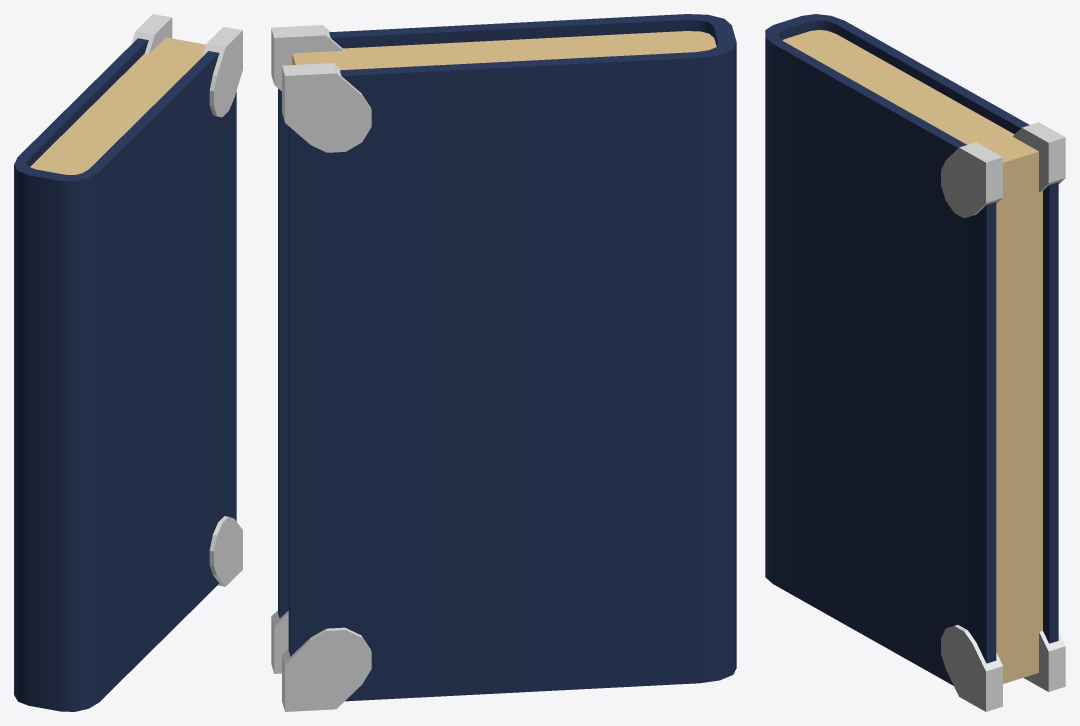
The model's file is obj_Book_09.fbx.
3 views of the same model, side by side, from view 1: azimuth 30°, elevation 25°; view 2: azimuth 150°, elevation 25°; view 3: azimuth 270°, elevation 25° (orthographic). The views are drawn at different scales.
Visible parts, largest first — view 1: Book_09, Book_EdgePattern.017; view 2: Book_09, Book_EdgePattern.017; view 3: Book_09, Book_EdgePattern.017.
Boxes of the visible parts, <box> form: Book_09: <box>14,37,236,711</box>; Book_EdgePattern.017: <box>131,14,242,586</box>; Book_09: <box>278,14,736,701</box>; Book_EdgePattern.017: <box>271,25,371,711</box>; Book_09: <box>765,14,1058,685</box>; Book_EdgePattern.017: <box>941,122,1065,711</box>.
Size of the model in its own units: 0.2174 by 0.3634 by 0.1802.
